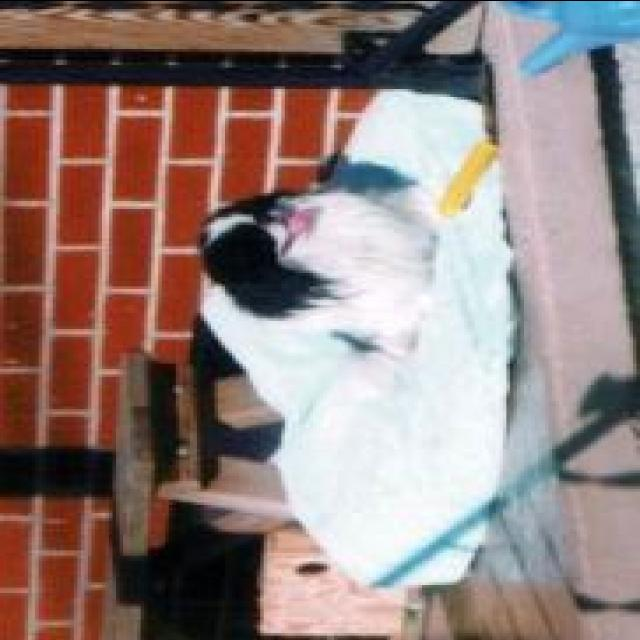husky: (186, 190, 446, 422)
